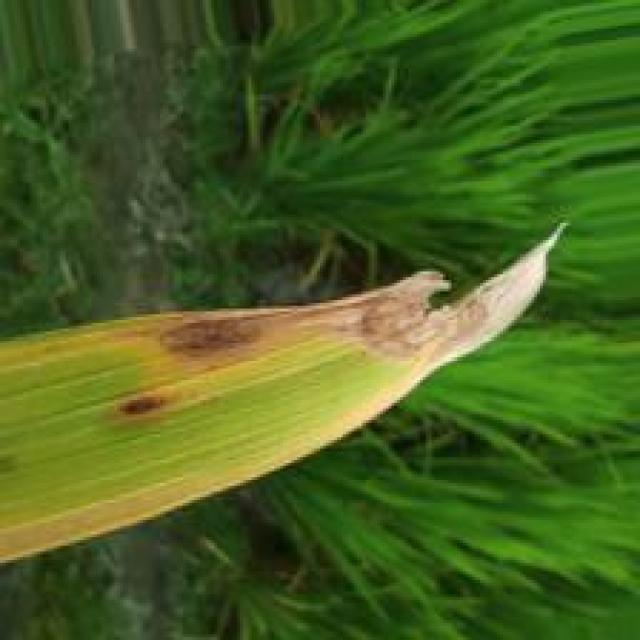Narrow_Brown_Leaf_Spot: (0, 228, 566, 424)
